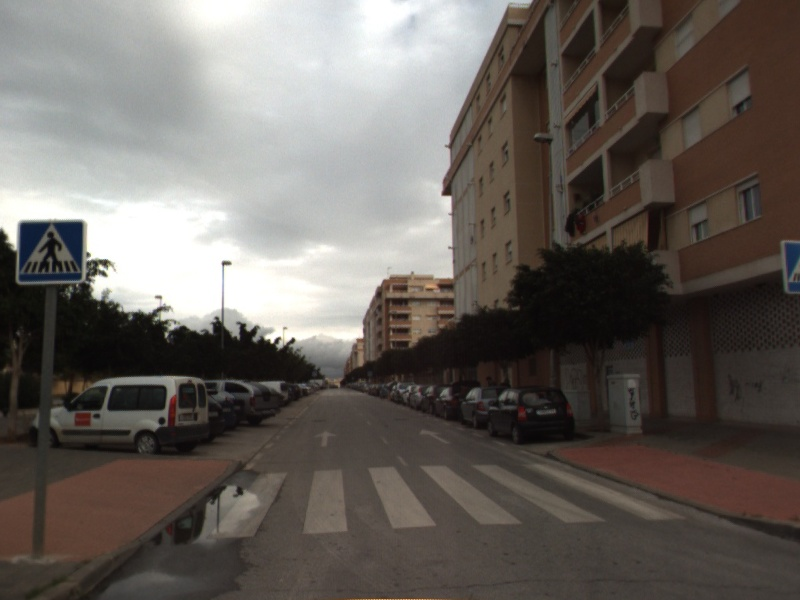STRAIGHT: (417, 427, 452, 446), (312, 428, 339, 449)
